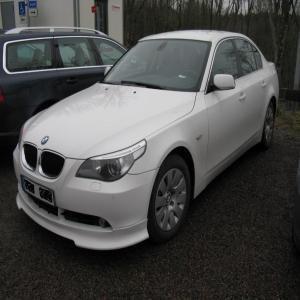Vehicle-registration-plate: (23, 177, 55, 207)
